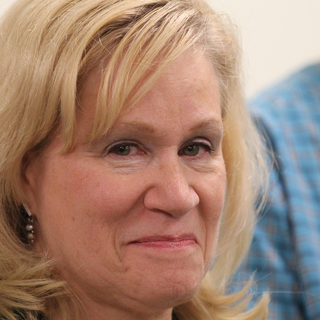eye: (98, 135, 149, 168), (169, 134, 222, 161)
